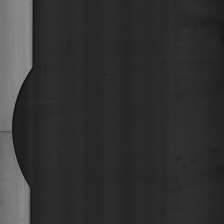crescent_gap: (10, 65, 48, 194), (1, 122, 18, 137)
